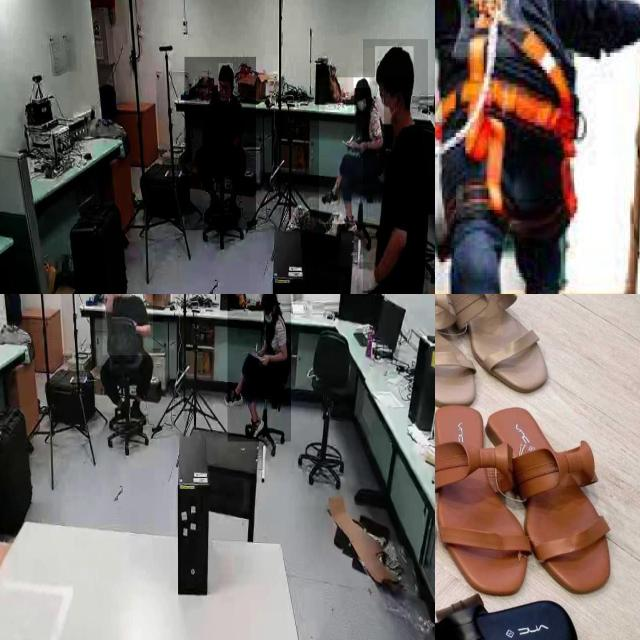Harness: (435, 0, 580, 219)
Sandals: (435, 383, 629, 600), (435, 294, 568, 409)
face_mask: (377, 83, 395, 136), (261, 300, 277, 330), (355, 88, 367, 116)
face_nomask: (218, 81, 232, 101)
glasses: (221, 384, 245, 410), (129, 400, 149, 428), (243, 414, 264, 440)
hand_glove: (356, 262, 379, 294)
hand_noglove: (353, 140, 369, 154), (259, 352, 269, 367)
head_nohelmet: (375, 46, 414, 79), (218, 63, 234, 80), (354, 77, 370, 89), (260, 294, 277, 300)
person: (363, 39, 428, 294), (184, 57, 256, 231), (319, 77, 384, 225), (227, 294, 291, 442), (102, 294, 153, 356)
